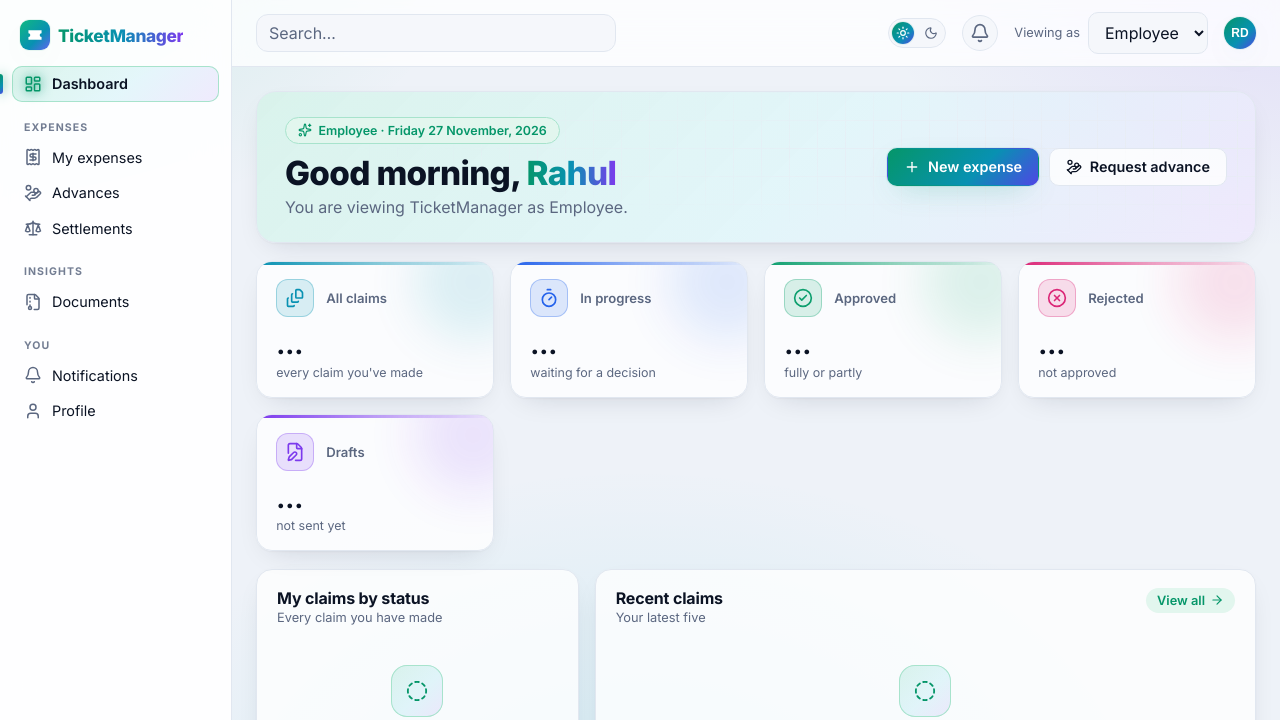
Test: roles › shows only the menu items of the active role, and switches role
Expected: the navigation bar named "Main" shows "My expenses", [12, 139, 219, 175]
Expected: the navigation bar named "Main" does not show "Users & roles", [12, 66, 219, 428]
Select "Admin" in the dropdown named "Active role": [1148, 33] box [1088, 12, 1208, 54]
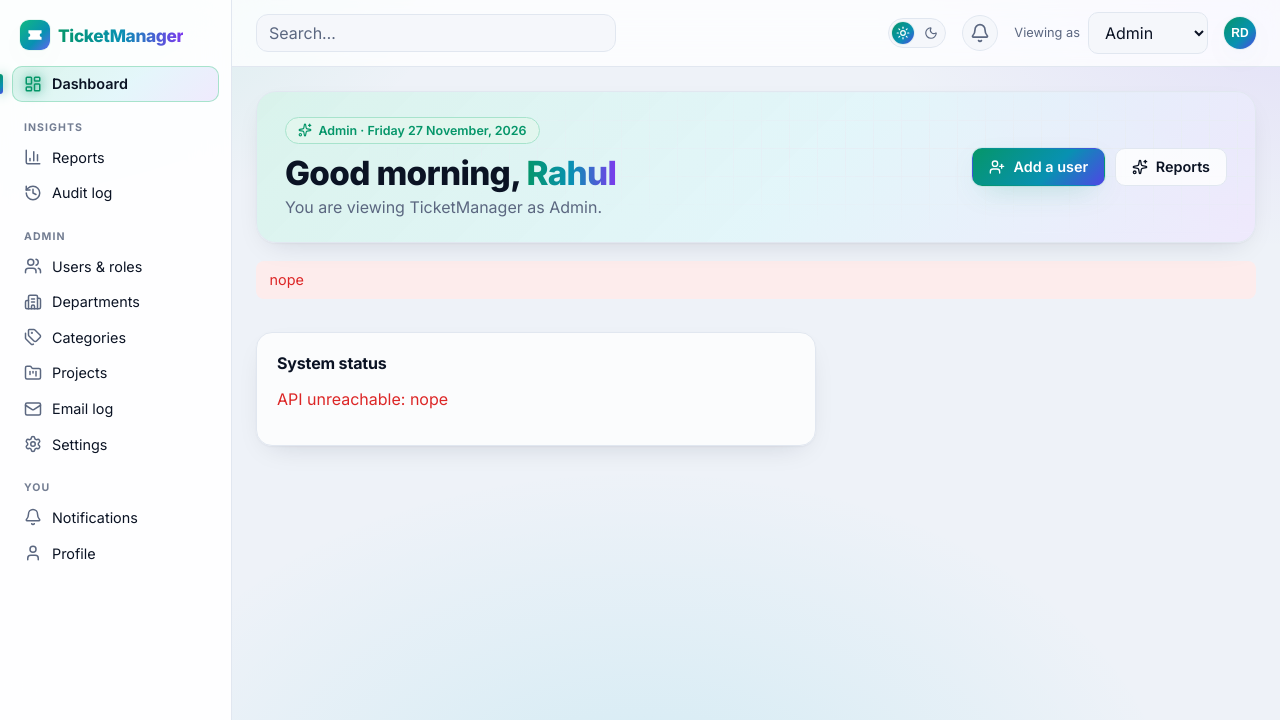
Expected: the navigation bar named "Main" shows "Users & roles", [12, 248, 219, 284]
Expected: the navigation bar named "Main" no longer shows "My expenses", [12, 66, 219, 571]
